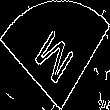M_SW: (31, 20, 79, 90)
